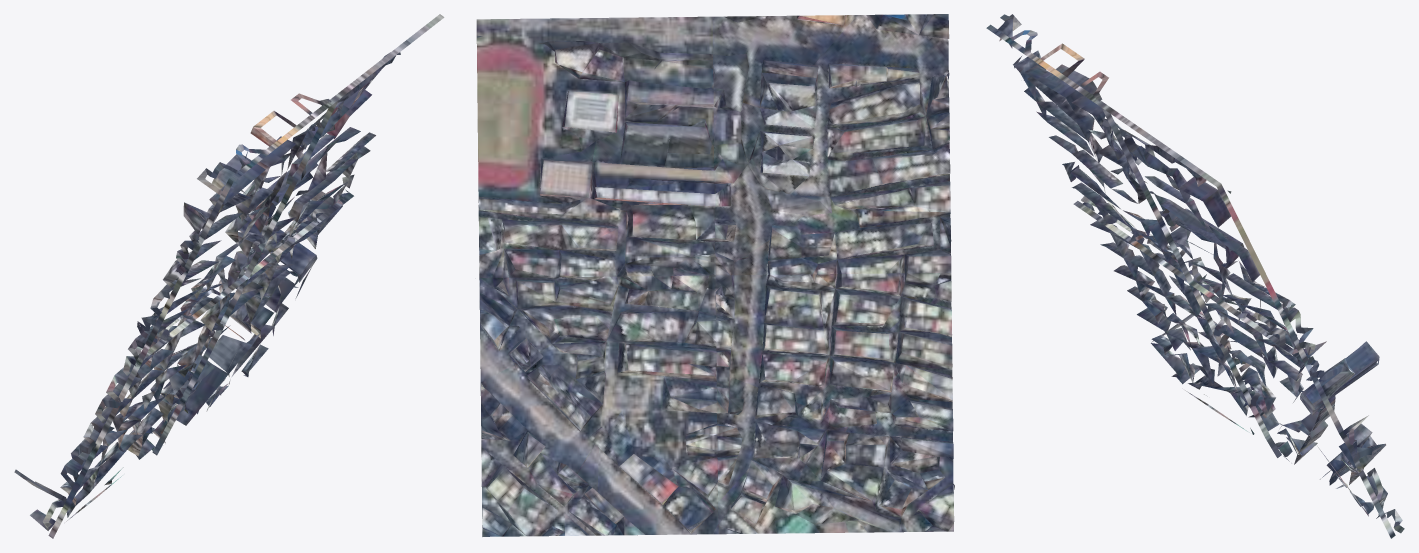
The picture shows the model from 3 angles, left to right: view 1: azimuth 30°, elevation 25°; view 2: azimuth 150°, elevation 25°; view 3: azimuth 270°, elevation 25°; orthographic projection. The views are drawn at different scales.
Size of the model in its own units: 636 by 569 by 527.
1 material, 1 textured.
